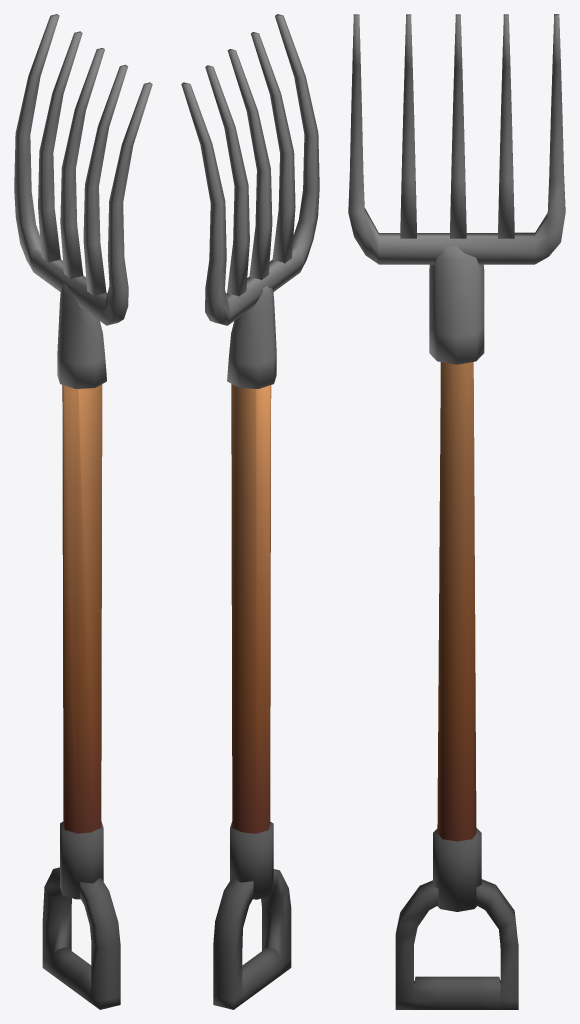
File: toolsPitchfork.fbx
The picture shows the model from 3 angles, left to right: view 1: azimuth 30°, elevation 25°; view 2: azimuth 150°, elevation 25°; view 3: azimuth 270°, elevation 25°; orthographic projection. The views are drawn at different scales.
Parts seen in each view (by area): view 1: Pitchfork; view 2: Pitchfork; view 3: Pitchfork.
Part boxes in pixels (x1,y1,x2,y2): Pitchfork: (14,14,152,1009); Pitchfork: (181,14,319,1009); Pitchfork: (348,14,565,1009).
Size of the model in its own units: 26.32 by 522 by 102.
